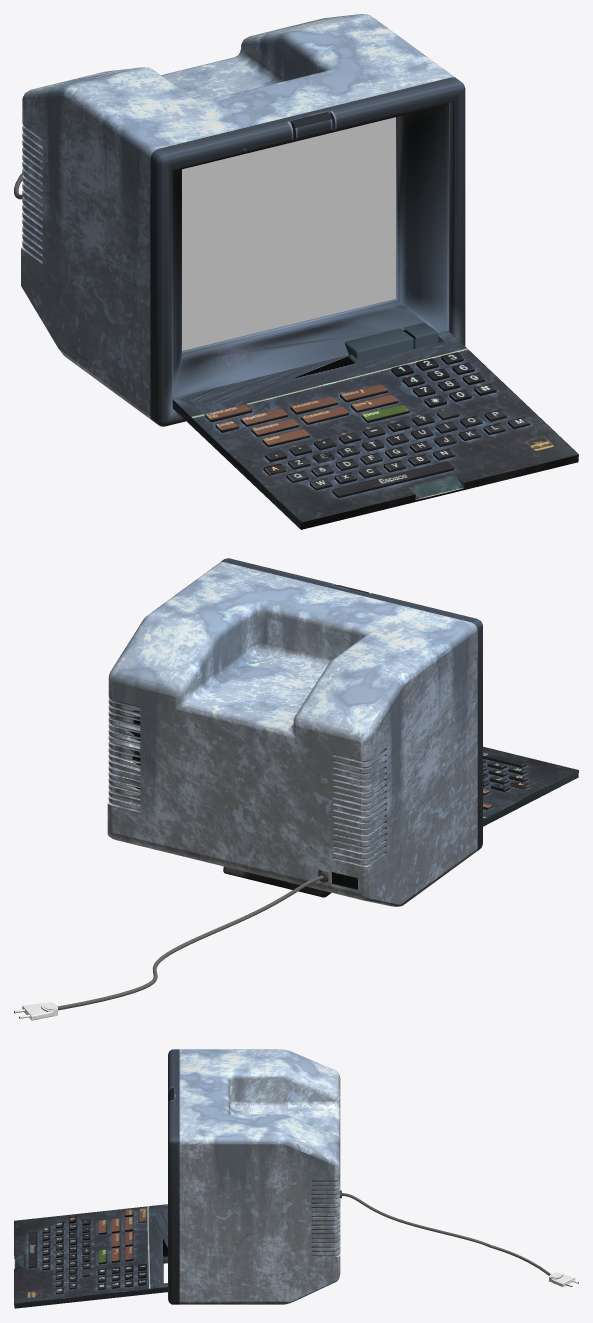
The model's file is minitel.glb.
The picture shows the model from 3 angles, top to bottom: view 1: azimuth 30°, elevation 25°; view 2: azimuth 150°, elevation 25°; view 3: azimuth 270°, elevation 25°; orthographic projection. The views are drawn at different scales.
Visible parts, largest first — view 1: Minitel_Body, Minitel_Bezel, Minitel_Screen, Object_27, Object_71, Object_32, Object_26, Object_25; view 2: Minitel_Body, Minitel_Bezel, Object_27, Object_34, Object_26, Object_32; view 3: Minitel_Body, Object_27, Minitel_Bezel, Object_26, Object_34, Object_25.
Boxes of the visible parts, bbox=[...] form: Minitel_Body: bbox=[21, 14, 454, 419]; Minitel_Bezel: bbox=[150, 77, 465, 426]; Minitel_Screen: bbox=[182, 117, 395, 350]; Object_27: bbox=[172, 331, 578, 529]; Object_71: bbox=[344, 322, 437, 362]; Object_32: bbox=[301, 455, 578, 529]; Object_26: bbox=[172, 331, 468, 528]; Object_25: bbox=[332, 461, 454, 497]; Minitel_Body: bbox=[107, 562, 477, 906]; Minitel_Bezel: bbox=[221, 558, 482, 850]; Object_27: bbox=[483, 746, 578, 818]; Object_34: bbox=[57, 875, 323, 1010]; Object_26: bbox=[483, 770, 578, 826]; Object_32: bbox=[223, 866, 331, 897]; Minitel_Body: bbox=[179, 1049, 340, 1304]; Object_27: bbox=[14, 1204, 167, 1308]; Minitel_Bezel: bbox=[168, 1049, 179, 1304]; Object_26: bbox=[14, 1209, 167, 1308]; Object_34: bbox=[342, 1193, 550, 1275]; Object_25: bbox=[28, 1231, 37, 1268].
Size of the model in its own units: 2.73 by 2.4 by 7.07.
Materials: 71 (68 with a texture image).
